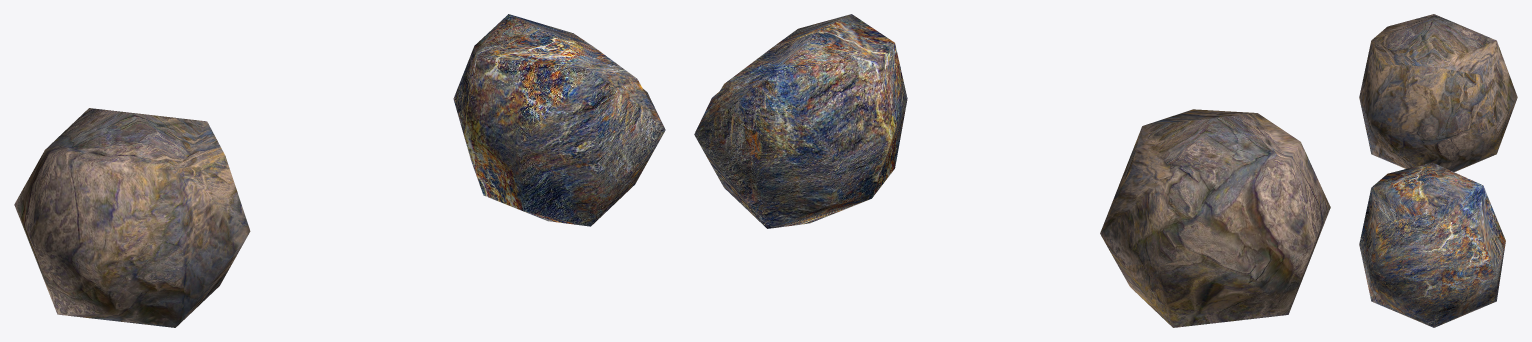
File: Rory.fbx
3 renders of one model, left to right at view 1: azimuth 30°, elevation 25°; view 2: azimuth 150°, elevation 25°; view 3: azimuth 270°, elevation 25°, orthographic. The views are drawn at different scales.
Visible parts, largest first — view 1: pCube3, pCube4; view 2: pCube3, pCube4; view 3: pCube3, pCube4.
Part boxes in pixels (x1,y1,x2,y2): pCube3: (14,108,250,327); pCube4: (453,14,665,226); pCube3: (1100,109,1330,327); pCube4: (694,14,907,228); pCube3: (1359,14,1517,172); pCube4: (1359,162,1505,327).
Size of the model in its own units: 3.08 by 1 by 0.947.
2 materials, 2 textured.
